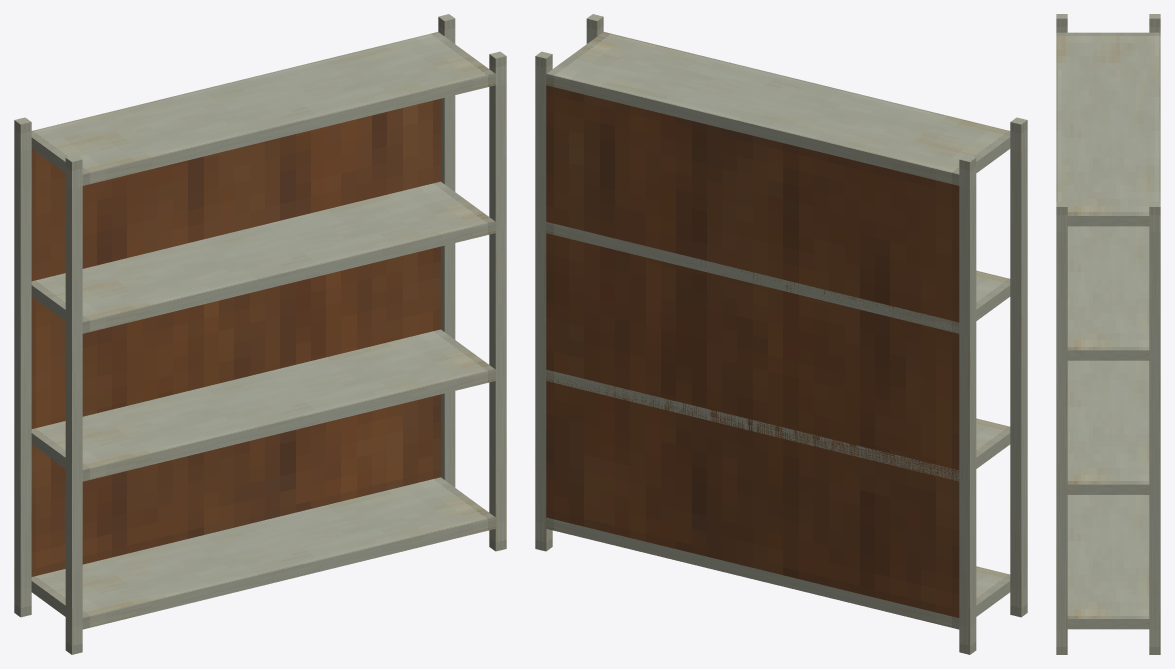
The model's file is shop_shelves.glb.
The picture shows the model from 3 angles, left to right: view 1: azimuth 30°, elevation 25°; view 2: azimuth 150°, elevation 25°; view 3: azimuth 270°, elevation 25°; orthographic projection. The views are drawn at different scales.
Parts seen in each view (by area): view 1: _MeshInstance3D_4; view 2: _MeshInstance3D_4; view 3: _MeshInstance3D_4.
Boxes of the visible parts, x1,y1,x2,y2 form: _MeshInstance3D_4: [14, 14, 506, 654]; _MeshInstance3D_4: [535, 14, 1027, 654]; _MeshInstance3D_4: [1056, 14, 1160, 654].
Size of the model in its own units: 2.4 by 2.6 by 0.55.
1 material, 1 textured.
